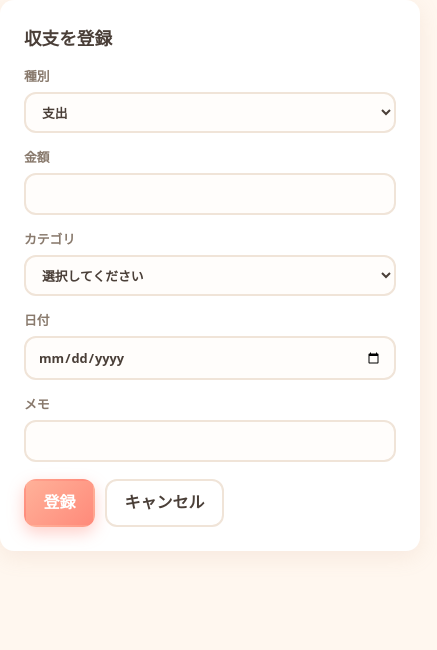
Test: TransactionForm › 不正な入力ではエラーを表示し送信しない
The image size is (437, 650).
Click the button "登録" at (60, 503), box [24, 479, 95, 527]
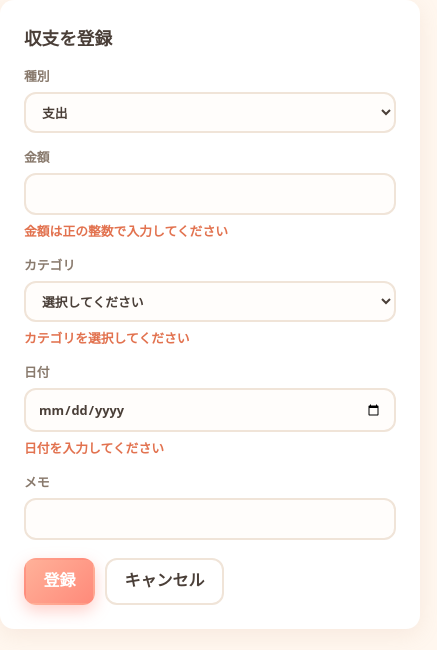
Now the text "金額は正の整数で入力してください" is shown, box [24, 222, 228, 240]
